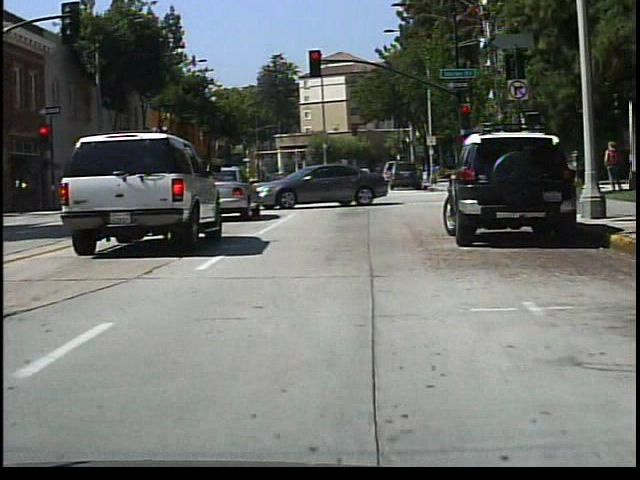person: (602, 137, 625, 192), (325, 158, 350, 200), (456, 150, 473, 187)
